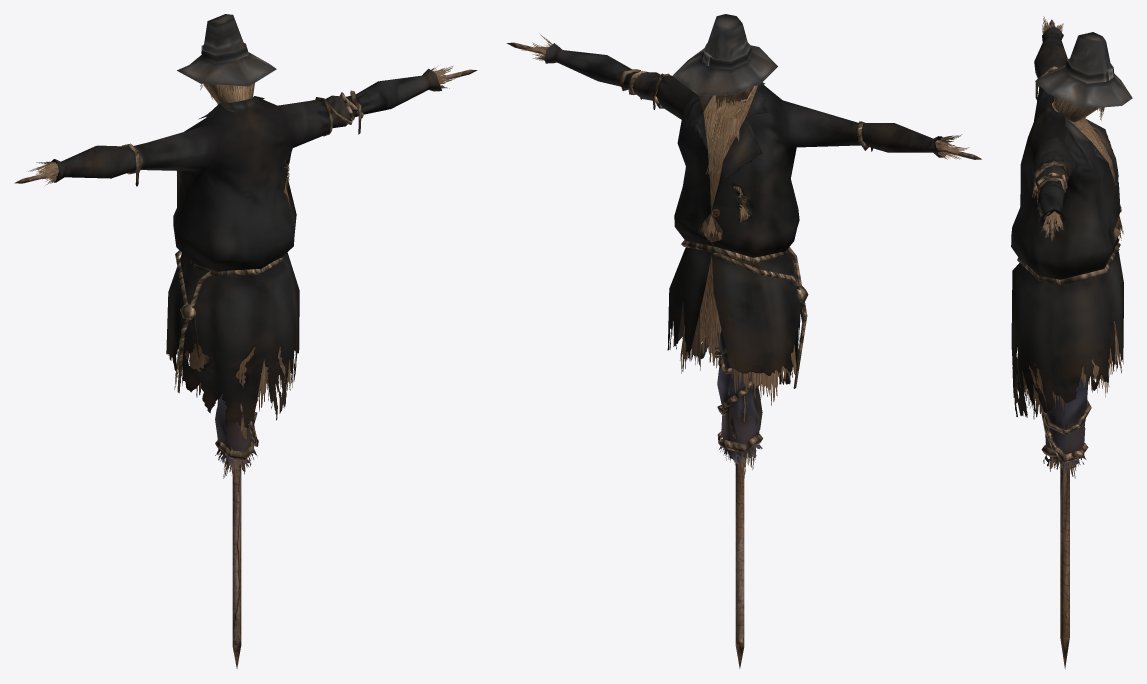
File: scarecrow.glb
3 views of the same model, side by side, from view 1: azimuth 30°, elevation 25°; view 2: azimuth 150°, elevation 25°; view 3: azimuth 270°, elevation 25° (orthographic). The views are drawn at different scales.
Visible parts, largest first — view 1: Object_2; view 2: Object_2; view 3: Object_2.
Part boxes in pixels (x1,y1,x2,y2): Object_2: (14,14,477,668); Object_2: (506,14,981,668); Object_2: (1011,16,1132,669).
Bounding box in the file's own units: 78.86 × 105 × 18.18.
1 material, 1 textured.
